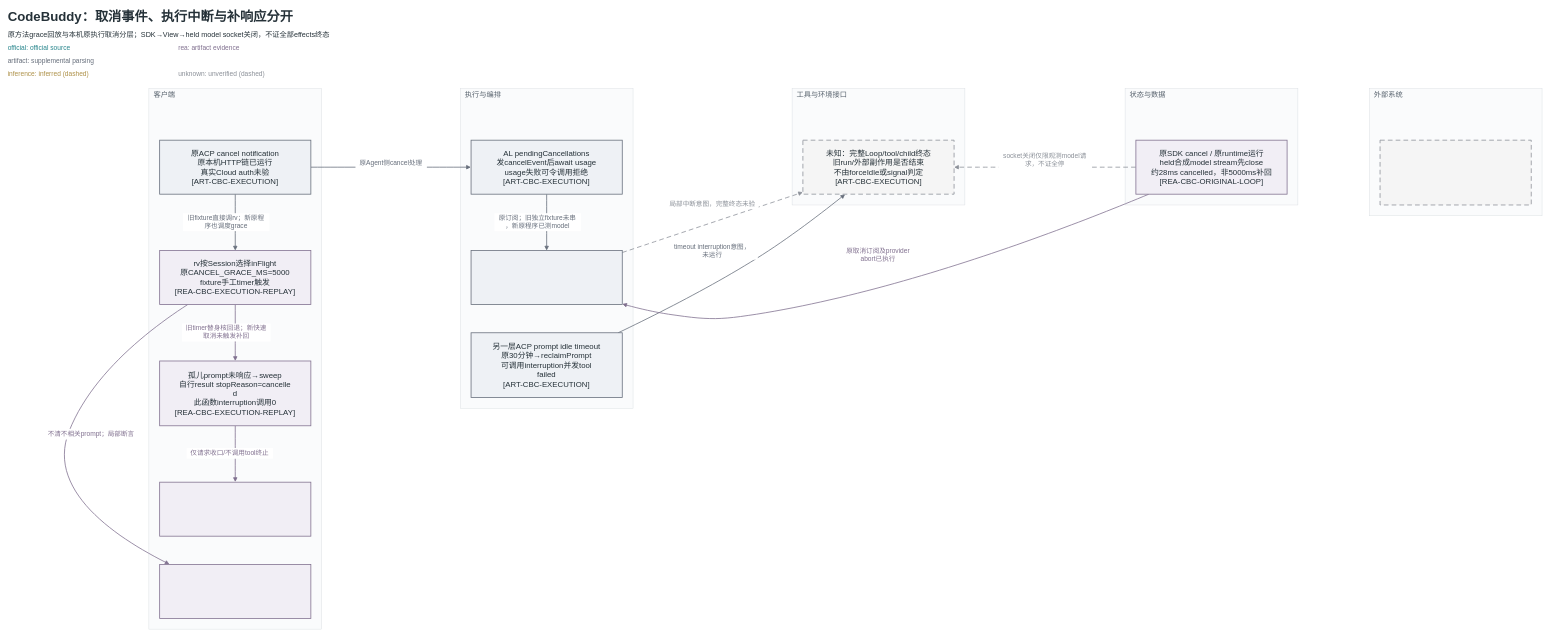
This 1550x637 diagram has some shape labels left out. The shapes that lost their labels are listed below. From the top down, each one's box as (x1, y1, x2, y2) in pixels, then its label:
(1379, 140, 1531, 205): Runtime休眠/删除或Scheduler超 时 与上述层不同；真实传播未知 CLI与云image未证同版 [W02]
(470, 250, 622, 305): 原View取消/idle/team条件 另有本机model Abort运行 所有tool/side effect仍未知 [ART-CBC-EXECUTION]
(159, 482, 311, 536): SSE响应写入替身true/false 失败仍finally end+清map 客户端是否收到另未知 [REA-CBC-EXECUTION-REPLAY]
(159, 564, 311, 619): 未匹配Session stream保留 已回答request不重复发送 局部map断言非可靠消息 [REA-CBC-EXECUTION-REPLAY]
